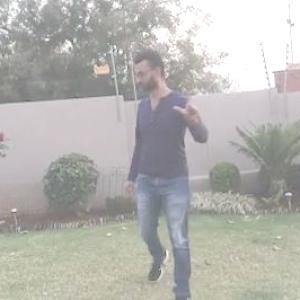land_hand: (171, 87, 203, 127)
